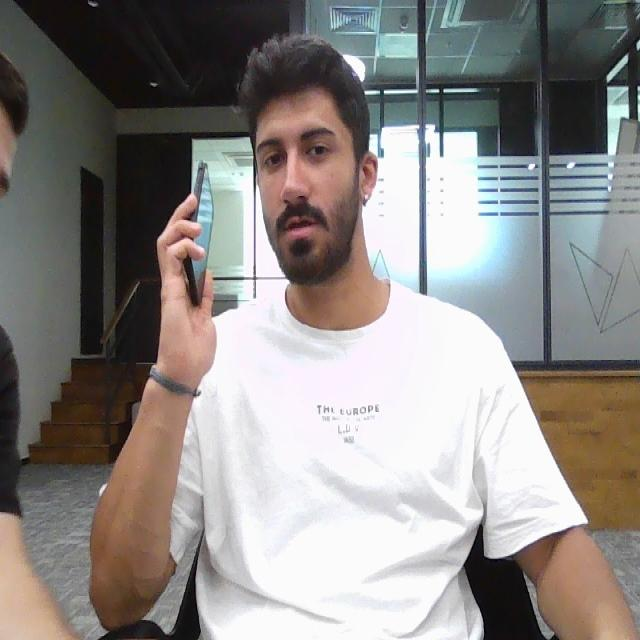phone: (181, 158, 216, 311)
